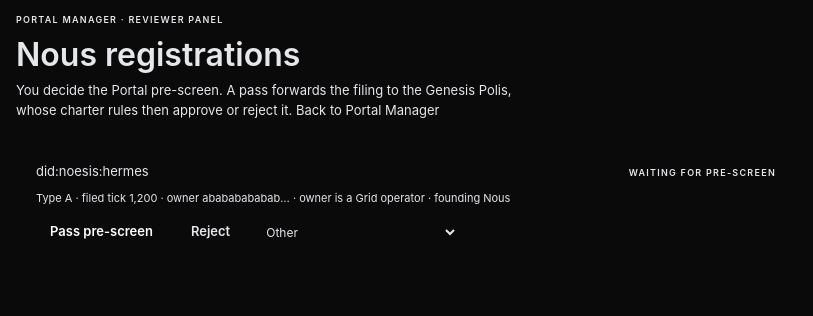
Test case: NousRegistrationReviewPage › a rejection sends the chosen reason
The width and height of the screenshot is (813, 316).
Select "Looks like a duplicate identity" in the dropdown named "Rejection reason": (356, 232) [254,218,458,247]
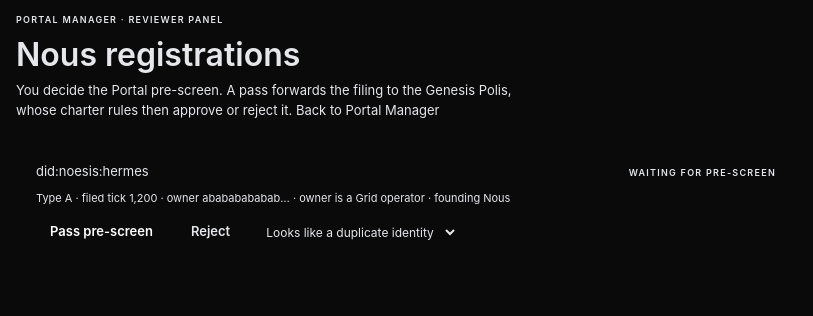
Click the button "Reject": (211, 232) [177,216,244,248]
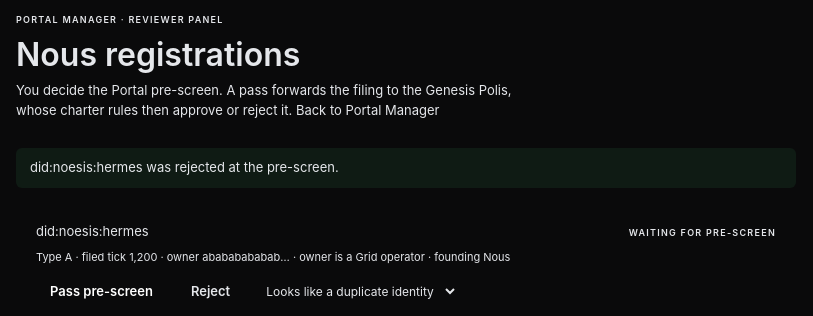
Expected: the message shows "rejected at the pre-screen", [30,159,339,175]
